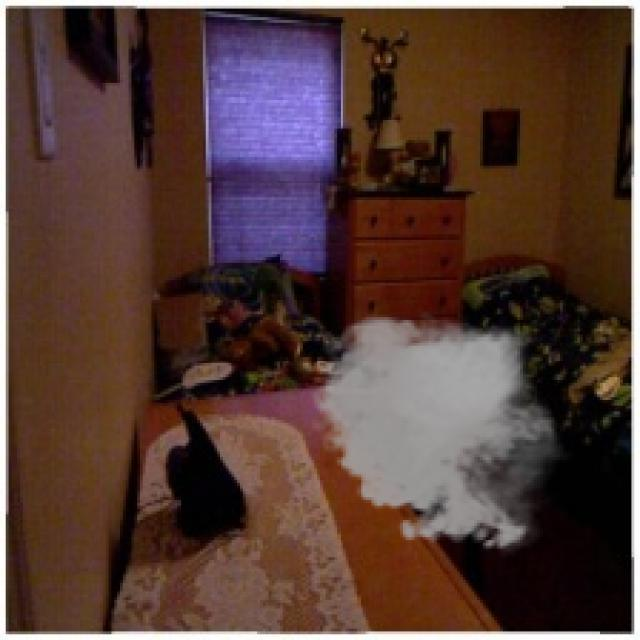Smoke: (303, 306, 572, 558)
